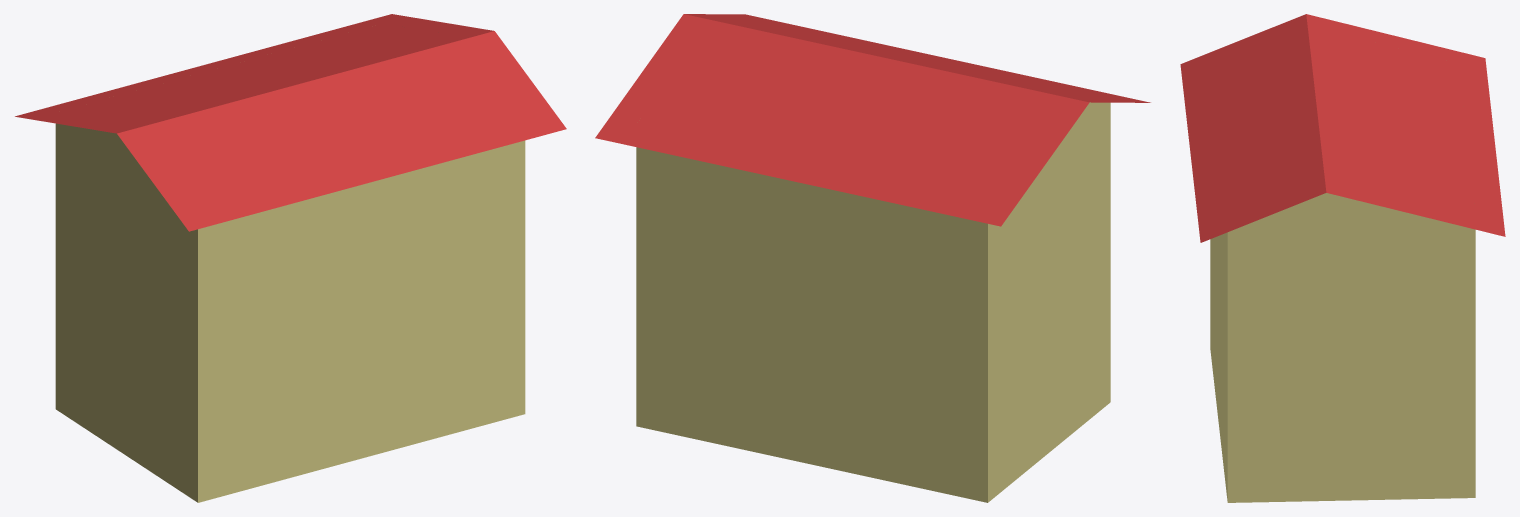
3 views of the same model, side by side, from view 1: azimuth 30°, elevation 25°; view 2: azimuth 150°, elevation 25°; view 3: azimuth 270°, elevation 25° (orthographic). The views are drawn at different scales.
Size of the model in its own units: 7.68 by 5.71 by 6.2.
